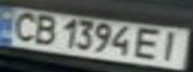1: (54, 17, 78, 50)
3: (72, 19, 93, 52)
4: (112, 24, 136, 57)
9: (90, 20, 115, 54)
B: (27, 12, 60, 45)
C: (3, 9, 42, 42)
E: (133, 25, 166, 61)
I: (154, 29, 187, 62)
